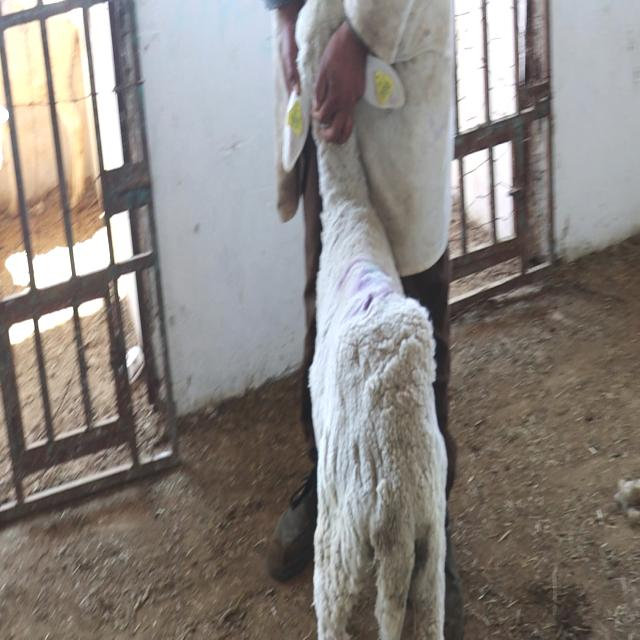Score_2: (281, 0, 447, 639)
